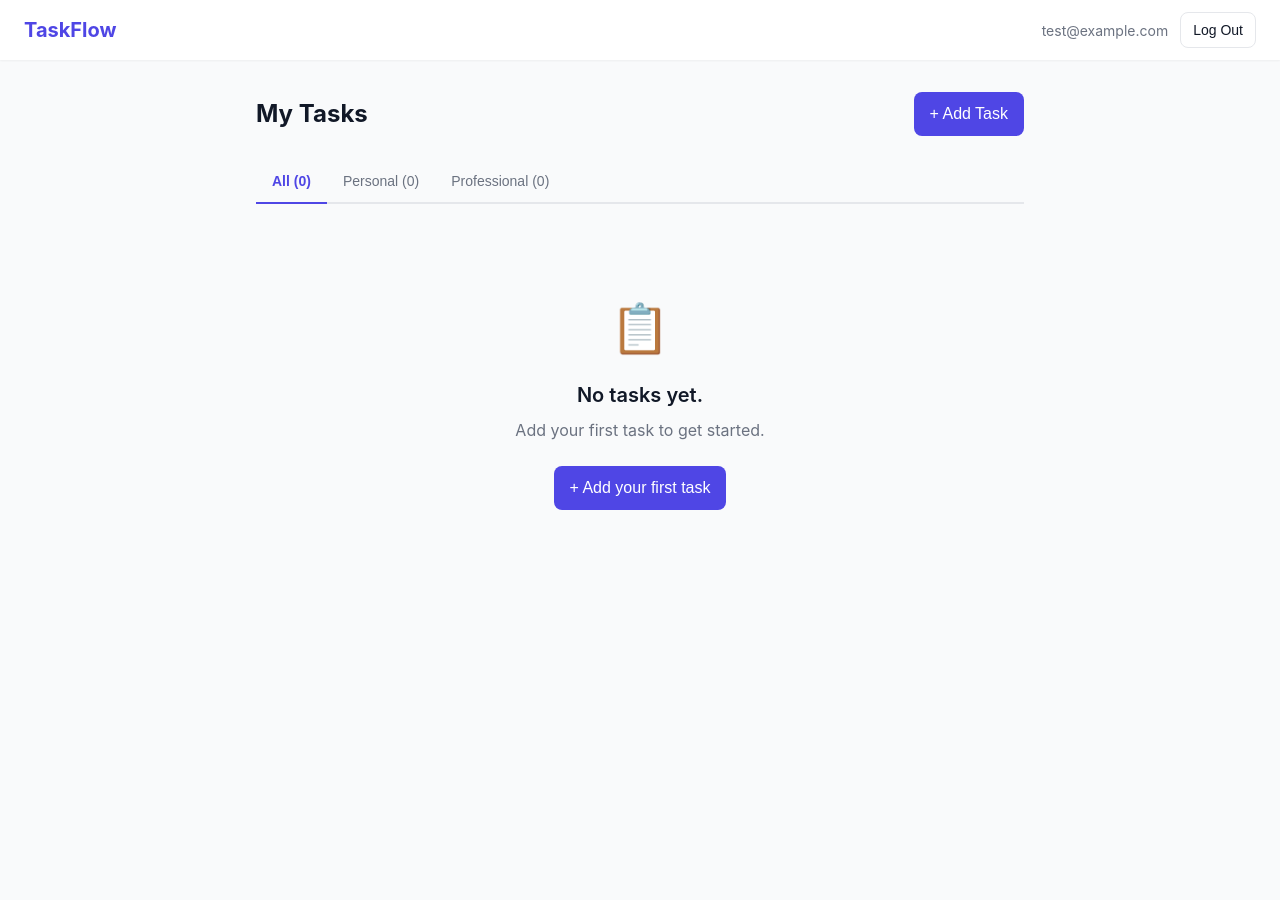
Scenario: Dashboard — Add Task modal › Add Task button opens modal
What coordinates should you click on to do the following:
click the button "+ Add Task"
I would click on:
 (969, 114)
Its box is x1=914 y1=92 x2=1024 y2=136.
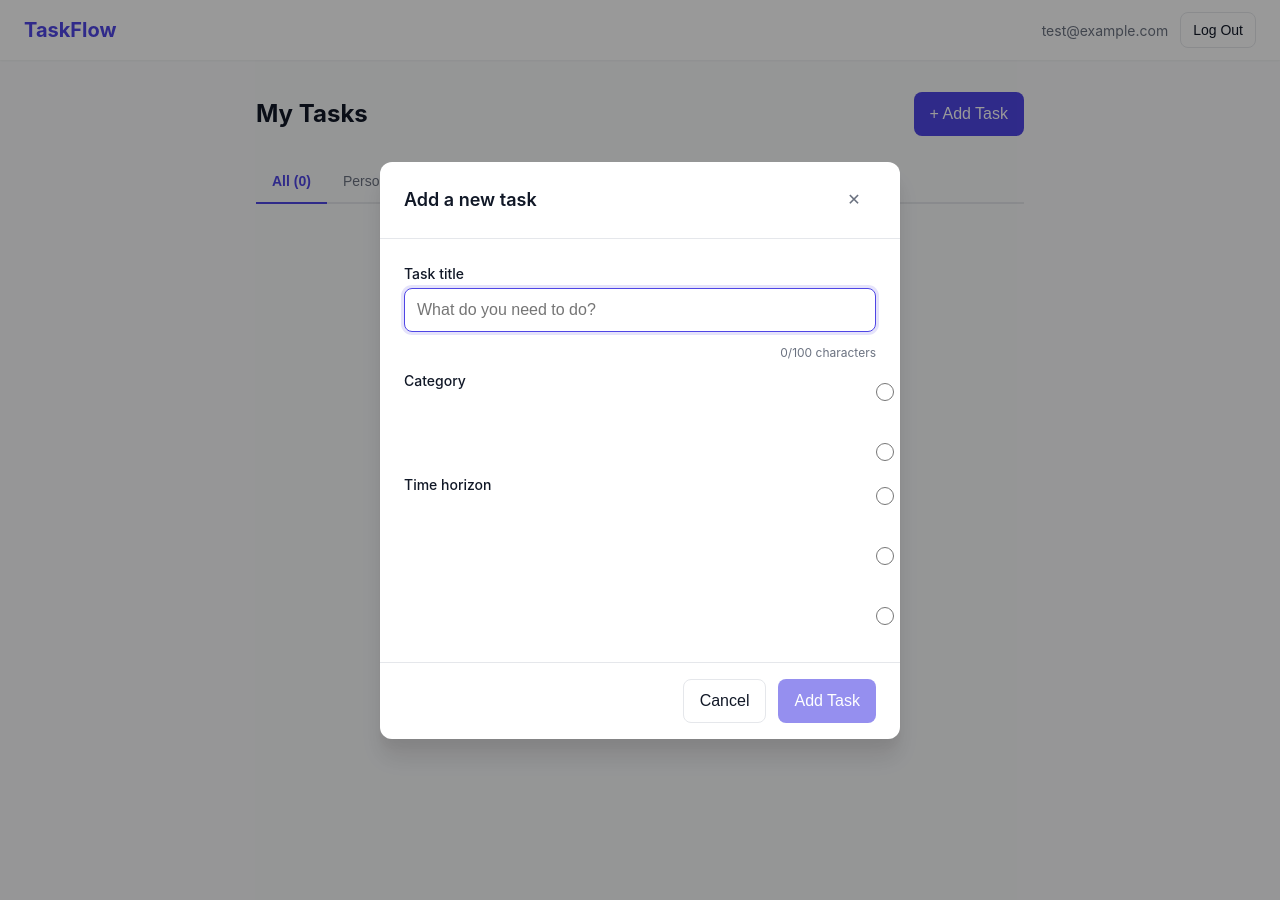
Expected: the dialog is shown, x1=380 y1=162 x2=900 y2=738
